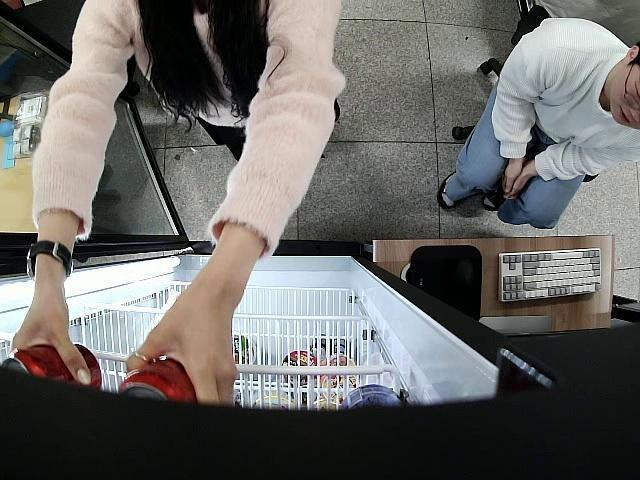11_cocaColaZero: (0, 344, 103, 389), (112, 357, 199, 404)
